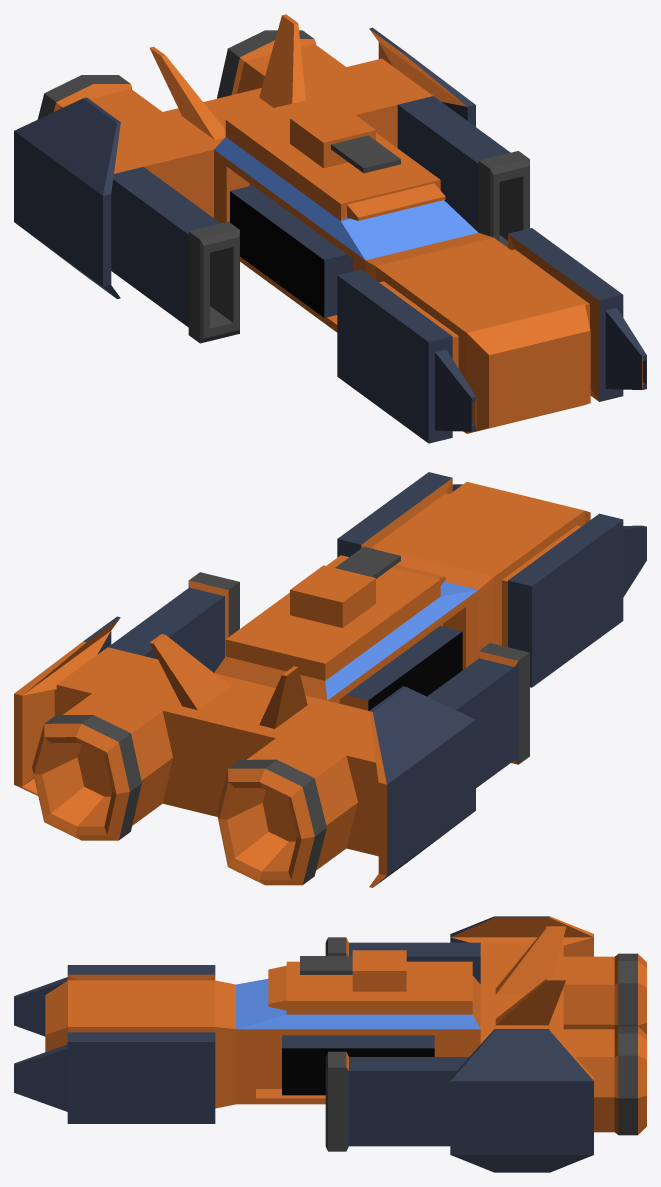
File: CometStrider.glb
3 views of the same model, one above another, from view 1: azimuth 30°, elevation 25°; view 2: azimuth 150°, elevation 25°; view 3: azimuth 270°, elevation 25° (orthographic). The views are drawn at different scales.
Visible parts, largest first — view 1: CometStrider; view 2: CometStrider; view 3: CometStrider.
Boxes of the visible parts, box(x1,y1,x2,y2) form: CometStrider: box(14, 14, 646, 443); CometStrider: box(14, 472, 646, 887); CometStrider: box(14, 916, 646, 1172).
Bounding box in the file's own units: 48.69 × 25.02 × 88.5.
1 material, 1 textured.
